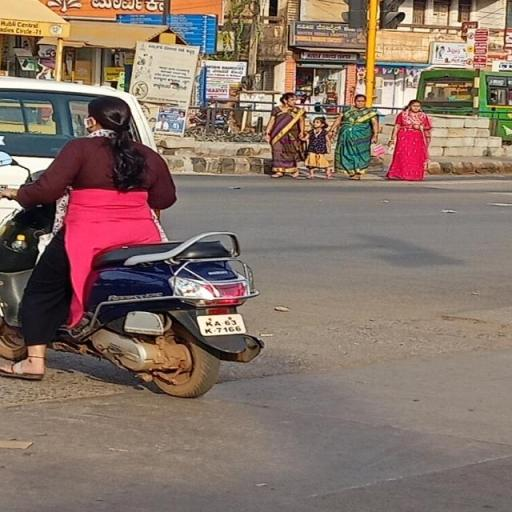bike: (4, 93, 271, 398)
numberplate: (197, 310, 248, 338)
withouthelmet: (88, 96, 132, 134)
